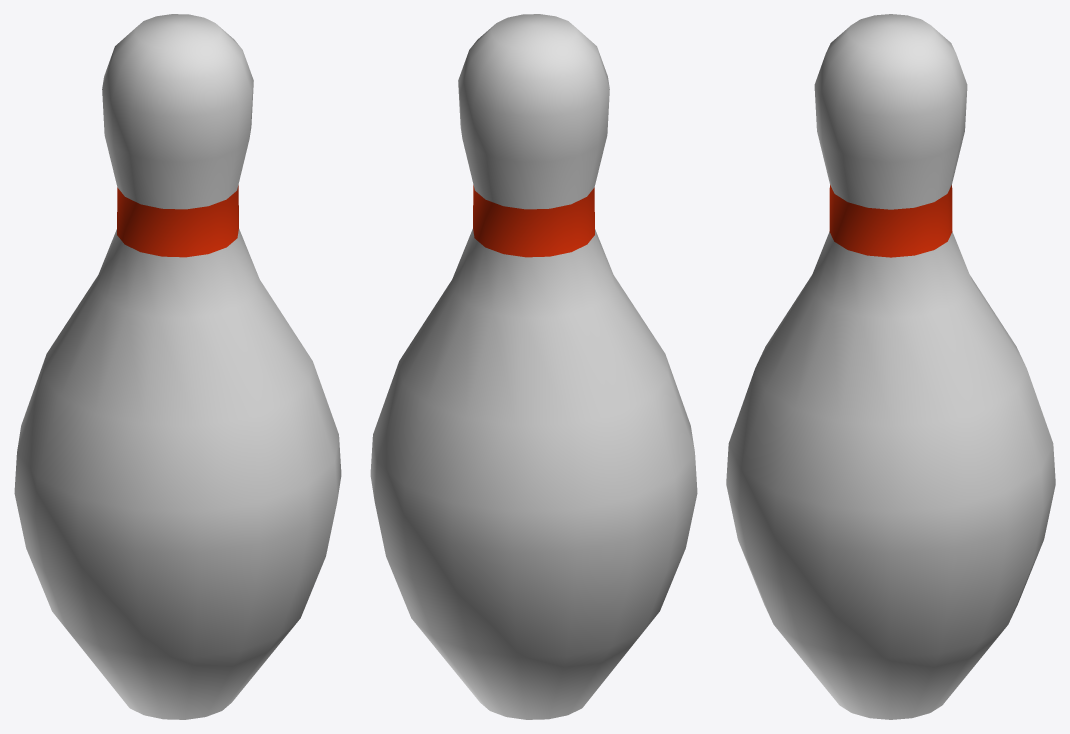
File: duckpin.glb
3 renders of one model, left to right at view 1: azimuth 30°, elevation 25°; view 2: azimuth 150°, elevation 25°; view 3: azimuth 270°, elevation 25°, orthographic.
Visible parts, largest first — view 1: Duckpin; view 2: Duckpin; view 3: Duckpin.
Part boxes in pixels (box(x1,y1,x2,y2)): Duckpin: box(14, 14, 341, 719); Duckpin: box(370, 14, 697, 719); Duckpin: box(726, 14, 1055, 719).
Bounding box in the file's own units: 0.104 × 0.2334 × 0.104.
